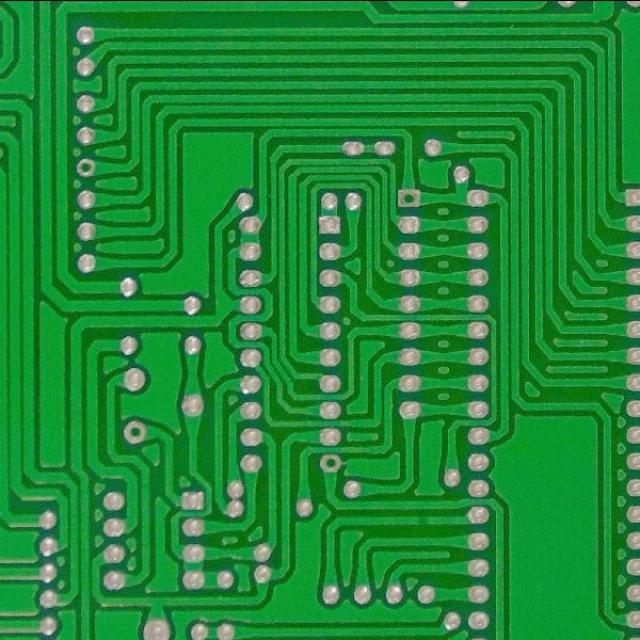Missing_Hole: (120, 419, 150, 446), (397, 185, 423, 209), (318, 452, 343, 475), (75, 157, 97, 178)
